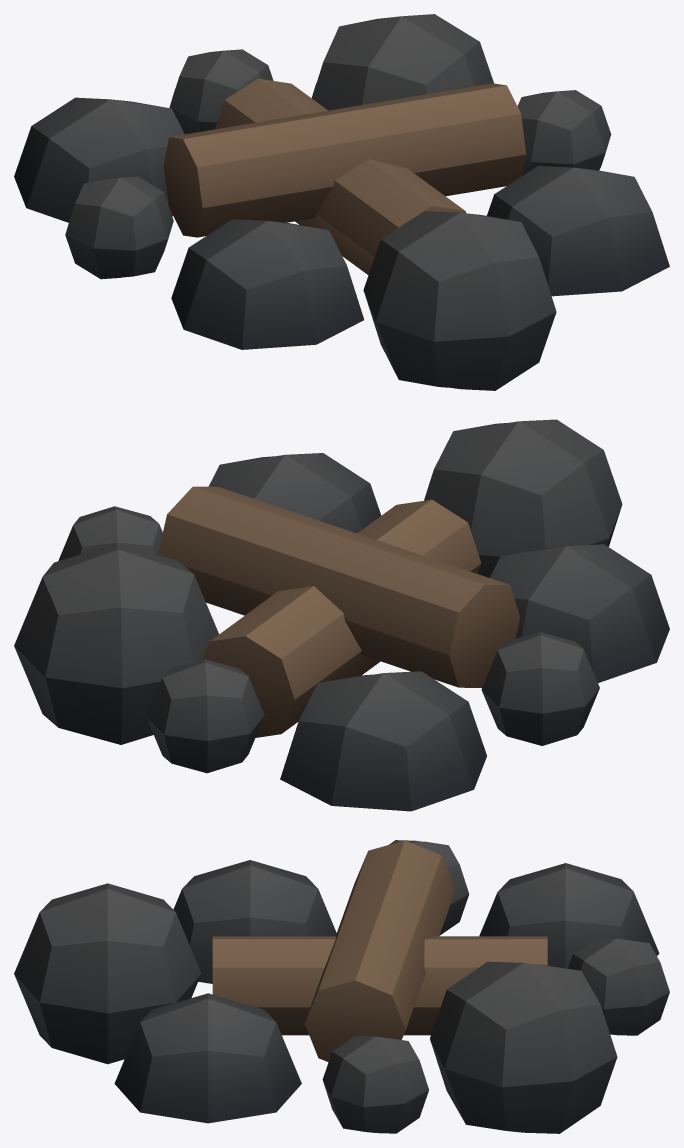
File: Campfire1.fbx
3 renders of one model, top to bottom at view 1: azimuth 30°, elevation 25°; view 2: azimuth 150°, elevation 25°; view 3: azimuth 270°, elevation 25°, orthographic. The views are drawn at different scales.
Parts seen in each view (by area): view 1: Campfire1; view 2: Campfire1; view 3: Campfire1.
Part boxes in pixels (x1=…): Campfire1: x1=14, y1=14, x2=669, y2=390; Campfire1: x1=14, y1=419, x2=669, y2=811; Campfire1: x1=14, y1=840, x2=669, y2=1133.
Bounding box in the file's own units: 199 × 65.51 × 229.
